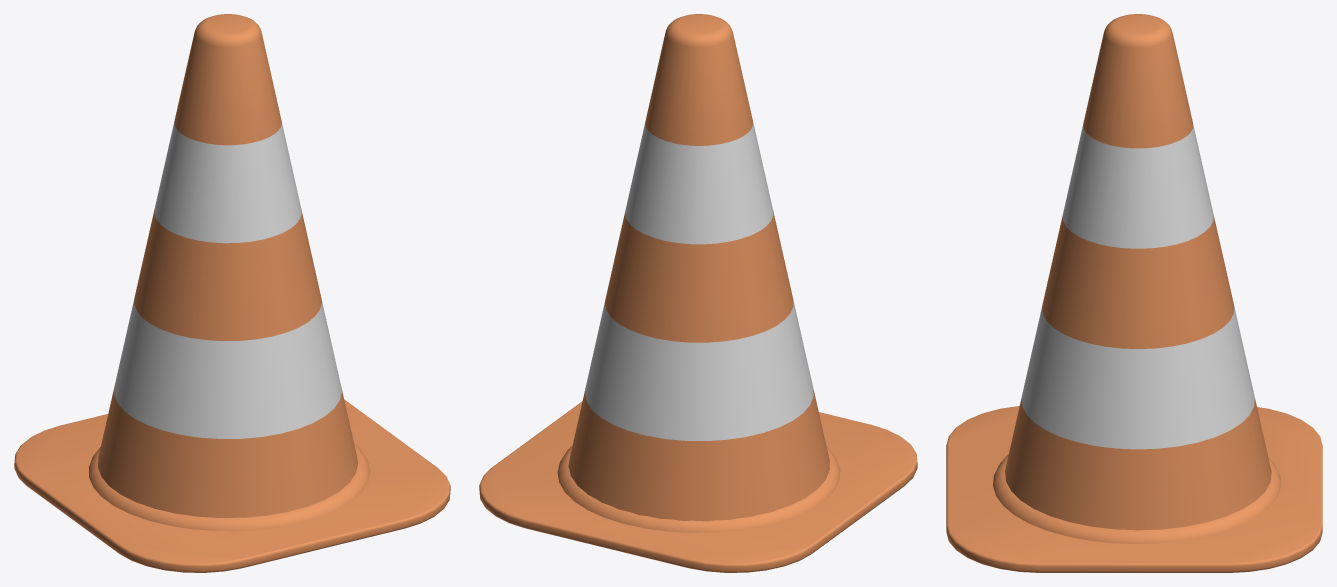
3 views of the same model, side by side, from view 1: azimuth 30°, elevation 25°; view 2: azimuth 150°, elevation 25°; view 3: azimuth 270°, elevation 25° (orthographic). The views are drawn at different scales.
Parts seen in each view (by area): view 1: polySurface1; view 2: polySurface1; view 3: polySurface1.
Part boxes in pixels (x1,y1,x2,y2): polySurface1: (14,14,450,572); polySurface1: (479,14,917,572); polySurface1: (946,14,1322,572).
Size of the model in its own units: 1.18 by 1.61 by 1.17.
